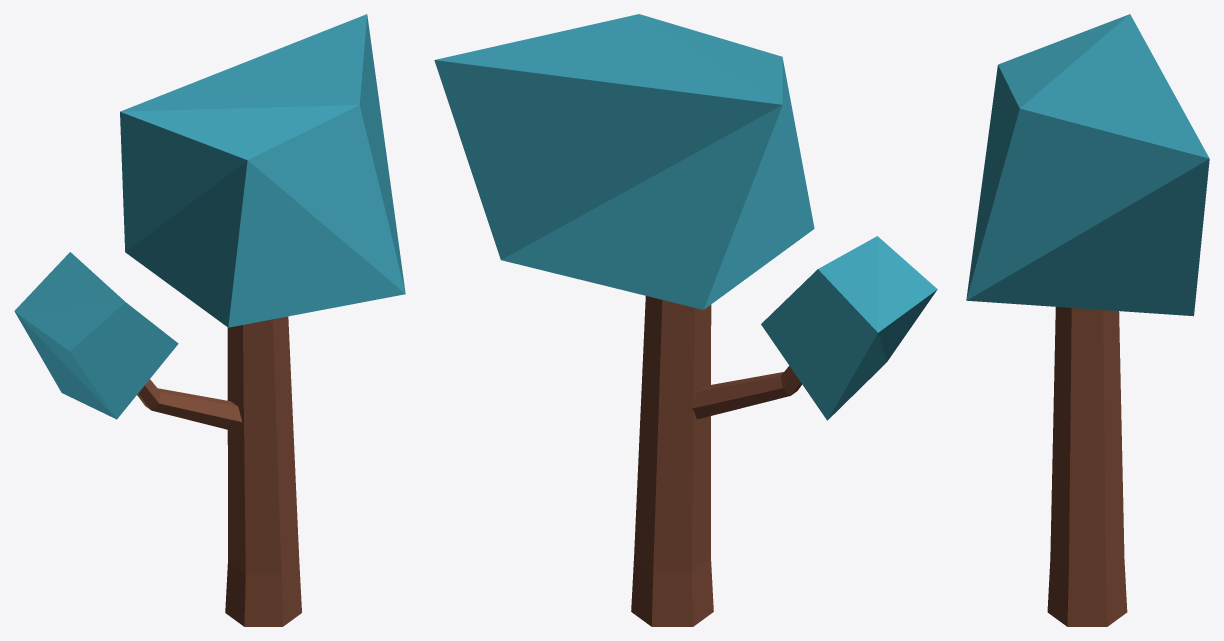
The model's file is Tree_45_summer_blue_vc.fbx.
3 views of the same model, side by side, from view 1: azimuth 30°, elevation 25°; view 2: azimuth 150°, elevation 25°; view 3: azimuth 270°, elevation 25° (orthographic). The views are drawn at different scales.
Visible parts, largest first — view 1: Tree_45_summer_blue_vc; view 2: Tree_45_summer_blue_vc; view 3: Tree_45_summer_blue_vc.
Boxes of the visible parts, x1,y1,x2,y2 form: Tree_45_summer_blue_vc: (14, 14, 405, 626); Tree_45_summer_blue_vc: (434, 14, 937, 626); Tree_45_summer_blue_vc: (966, 14, 1209, 626).
Size of the model in its own units: 139 by 179 by 73.58.
